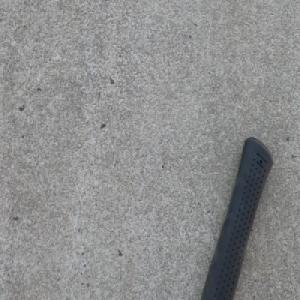Hammer: (195, 134, 273, 300)
